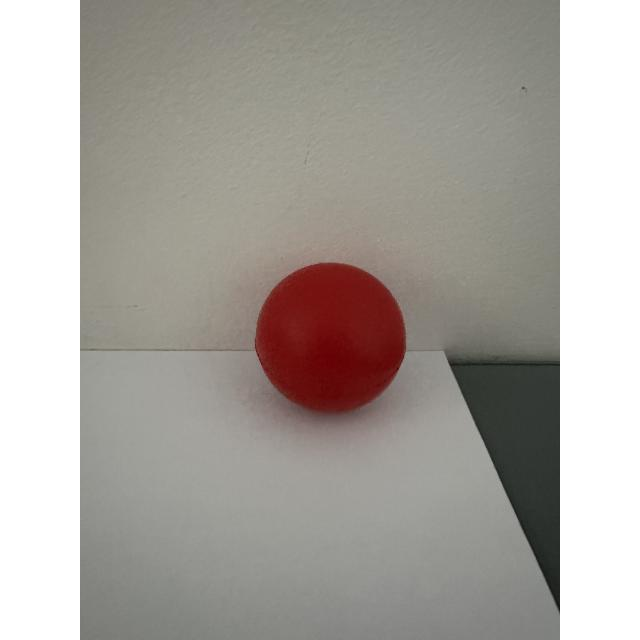red_ball: (254, 247, 422, 436)
